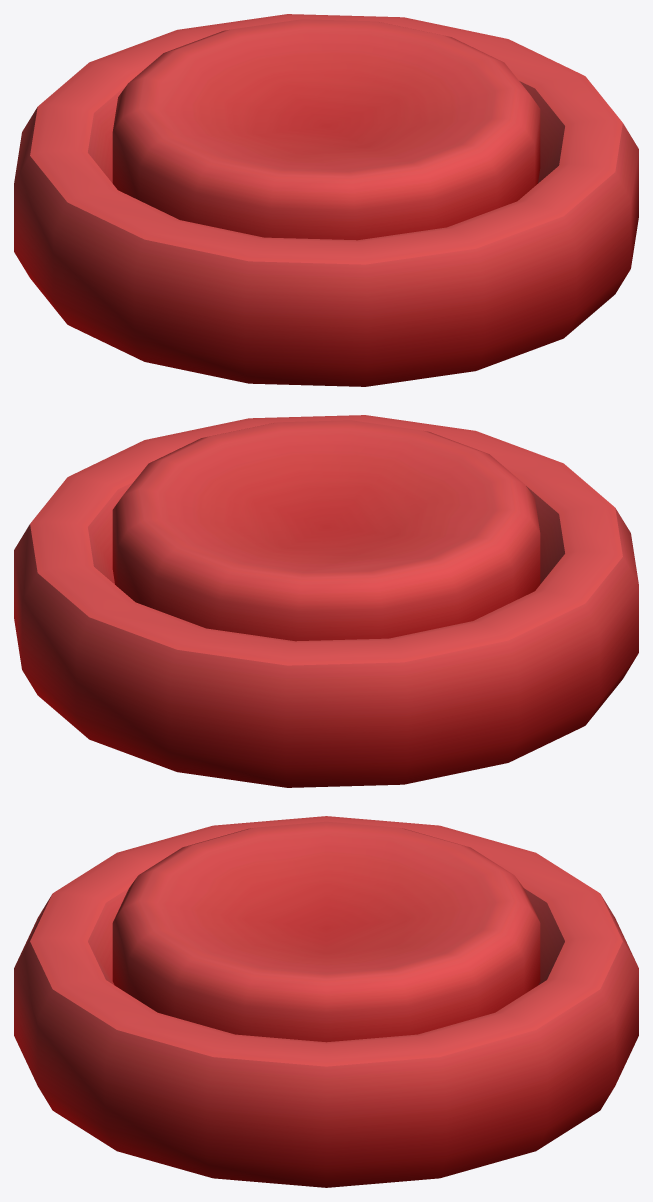
Rendered from Button.FBX.
3 renders of one model, top to bottom at view 1: azimuth 30°, elevation 25°; view 2: azimuth 150°, elevation 25°; view 3: azimuth 270°, elevation 25°, orthographic.
Visible parts, largest first — view 1: Button_Base, Button_Top; view 2: Button_Base, Button_Top; view 3: Button_Base, Button_Top.
Boxes of the visible parts, bbox=[...] form: Button_Base: bbox=[14, 14, 638, 386]; Button_Top: bbox=[112, 19, 540, 240]; Button_Base: bbox=[14, 415, 638, 787]; Button_Top: bbox=[112, 420, 540, 641]; Button_Base: bbox=[14, 816, 638, 1187]; Button_Top: bbox=[112, 821, 540, 1042].
Bounding box in the file's own units: 7.48 × 2.14 × 7.48.
